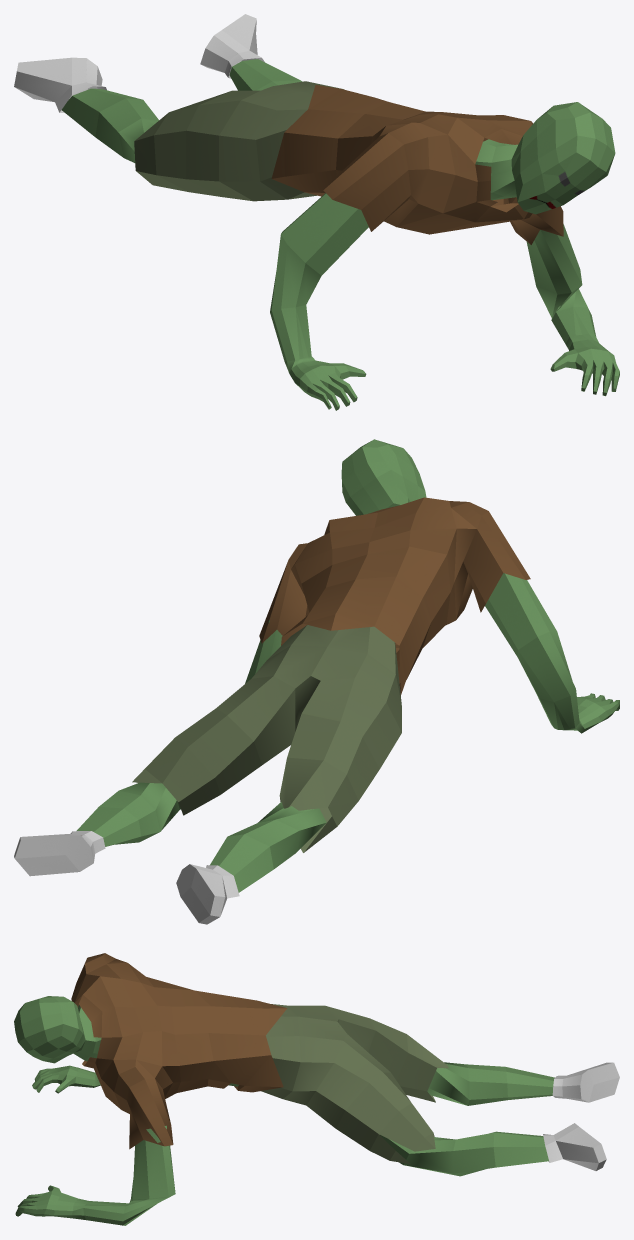
Rendered from ZombieCrawl(140).obj.
3 renders of one model, top to bottom at view 1: azimuth 30°, elevation 25°; view 2: azimuth 150°, elevation 25°; view 3: azimuth 270°, elevation 25°, orthographic. The views are drawn at different scales.
Visible parts, largest first — view 1: Object001; view 2: Object001; view 3: Object001.
Part boxes in pixels (<box>): Object001: <box>14,14,619,410</box>; Object001: <box>14,439,619,924</box>; Object001: <box>14,953,619,1225</box>.
Bounding box in the file's own units: 28.58 × 22.61 × 58.29.
